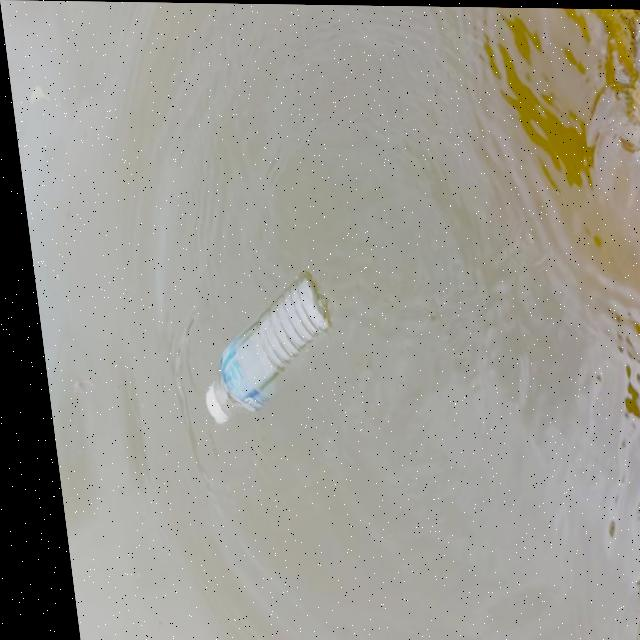waterbottle: (141, 267, 346, 436)
